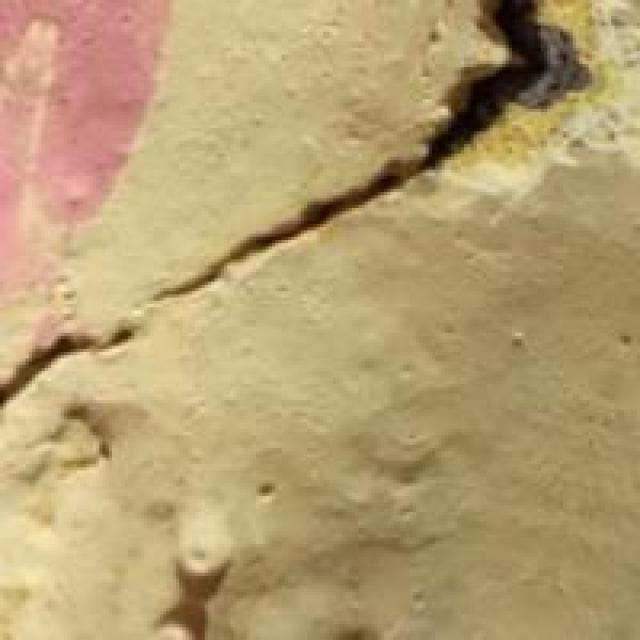Crack: (3, 0, 605, 429)
